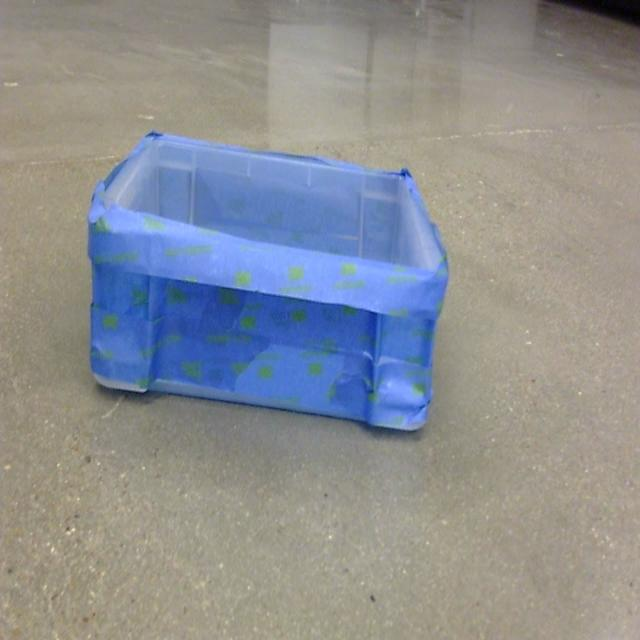bucket: (86, 132, 450, 434)
